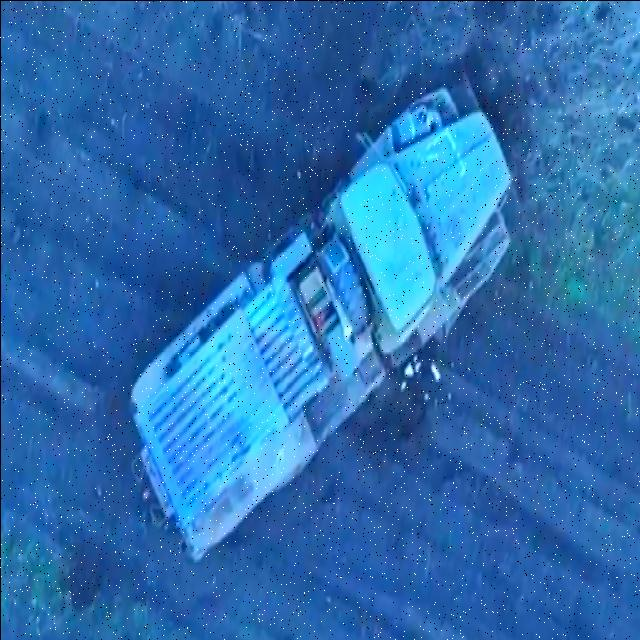MLRS: (128, 62, 522, 576)
